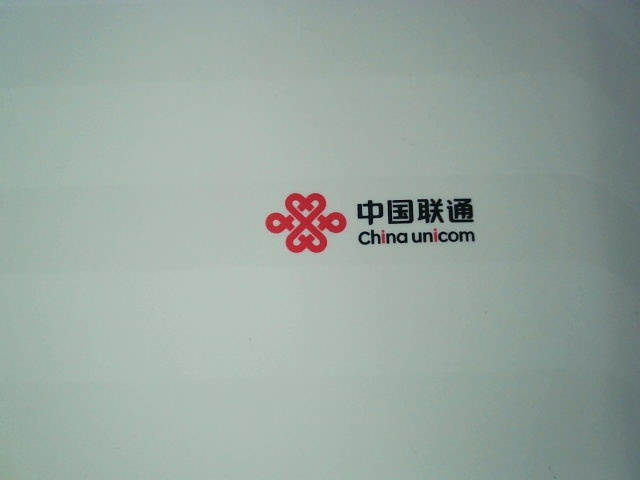AD_ChinaUnicom: (258, 183, 484, 267)
